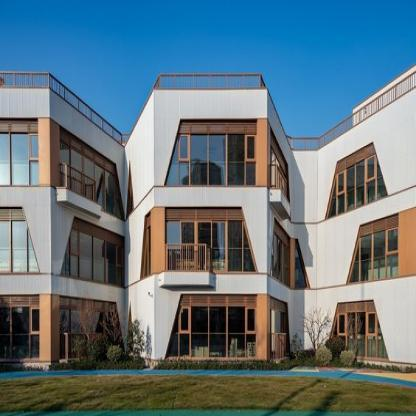Balcony: (0, 70, 416, 150), (58, 163, 97, 204), (167, 243, 211, 272), (271, 164, 288, 200)
Building Outline: (0, 63, 416, 373)
Facade: (0, 71, 416, 373)
Floor Slab: (0, 89, 416, 157), (1, 186, 416, 230), (0, 272, 416, 297)
Window: (166, 209, 257, 273), (165, 123, 257, 186), (58, 129, 122, 219), (166, 297, 256, 357), (327, 145, 387, 219), (62, 219, 122, 285), (60, 299, 123, 361), (327, 302, 388, 358), (349, 215, 398, 283), (0, 209, 39, 273), (0, 121, 38, 185), (0, 297, 39, 358), (271, 129, 289, 218), (271, 221, 289, 285), (270, 298, 288, 358), (295, 242, 308, 288), (144, 215, 150, 278), (127, 178, 133, 216), (127, 318, 133, 354)
